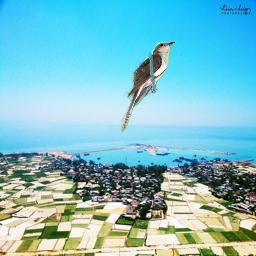Cuckoo: (121, 41, 175, 132)
